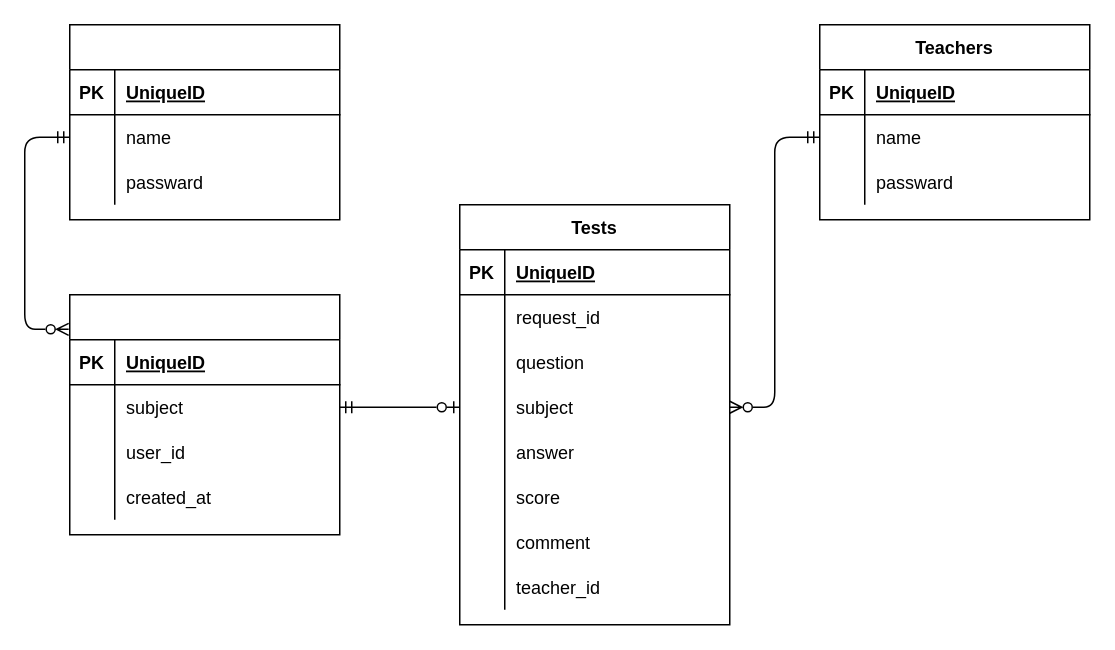
The diagram is 1115 pixels wide and 650 high, and some of its shapes have lost their labels. Here are the shapes that lost their labels. From the top down, the box of each, then its label:
(68, 23, 340, 220): students
(68, 293, 340, 535): Requests
